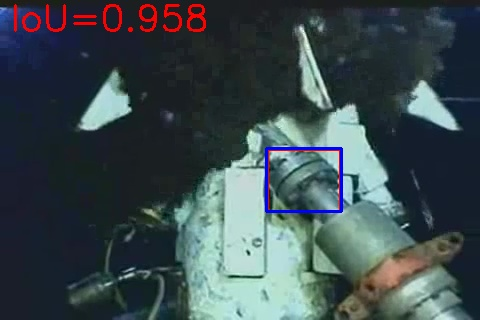flange joint: (268, 150, 340, 211)
